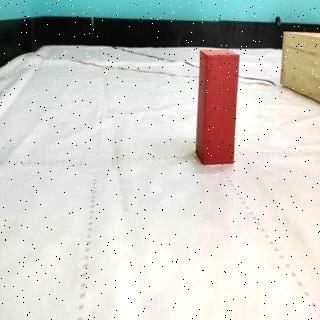redbox: (197, 46, 239, 166)
